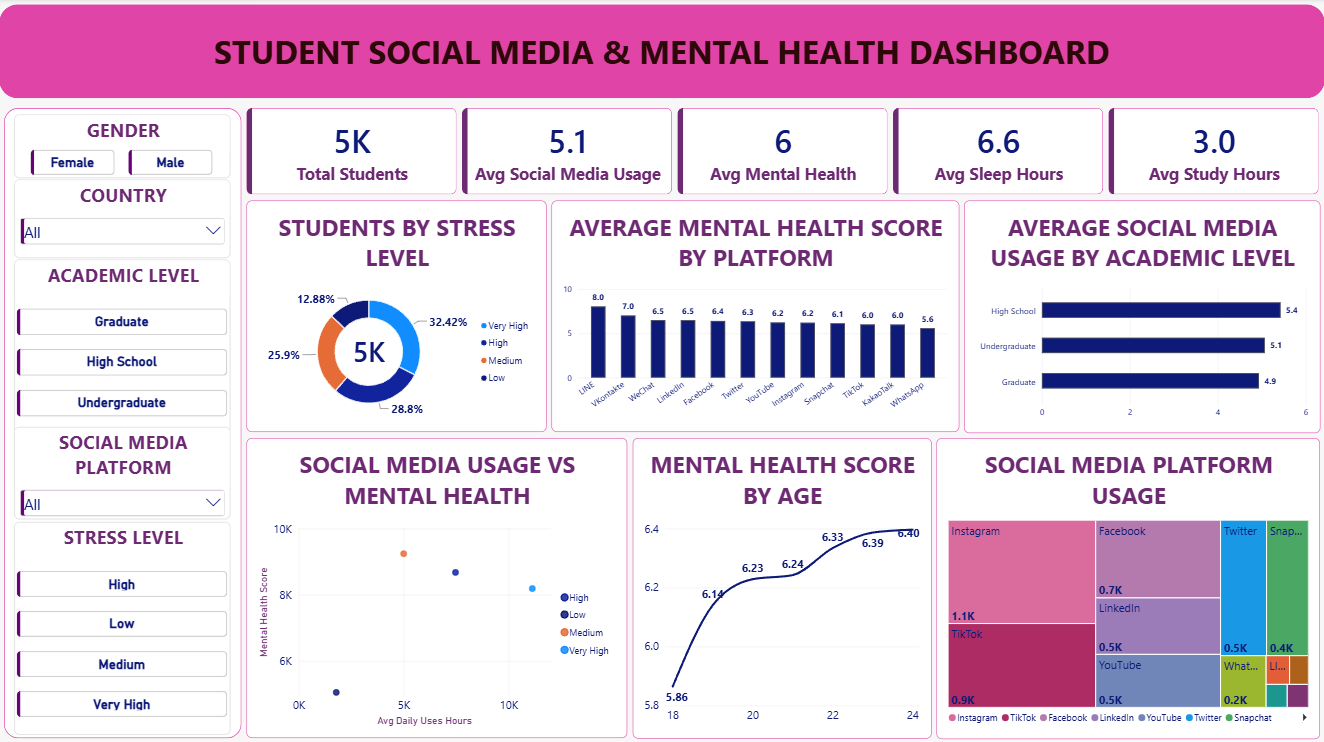

The dashboard page shown, as its layout file describes it:
{"tool":"powerbi","page":{"name":"Page 2","canvas":[1920,1080],"ordinal":1},"visuals":[{"type":"shape","box":[0,8.7,1919.6,136.3],"z":6000},{"type":"shape","box":[6.5,160,343.8,912.4],"z":7000},{"type":"advancedSlicerVisual","title":"GENDER","fields":{"Values":["StudentData.Gender"]},"box":[21.6,168.6,313.5,93],"z":8000},{"type":"advancedSlicerVisual","title":"ACADEMIC LEVEL","fields":{"Values":["StudentData.Academic_Level"]},"box":[21.6,378.4,313.5,253],"z":9000},{"type":"advancedSlicerVisual","title":"STRESS LEVEL","fields":{"Values":["StudentData.Stress_Level"]},"box":[21.6,758.9,313.5,309.2],"z":14000},{"type":"slicer","title":"SOCIAL MEDIA PLATFORM","fields":{"Values":["StudentData.Most_Used_Platform"]},"box":[21.6,620.5,313.5,134.1],"z":15000},{"type":"slicer","title":"COUNTRY","fields":{"Values":["StudentData.Country"]},"box":[21.6,261.6,313.5,114.6],"z":16000},{"type":"donutChart","title":"STUDENTS BY STRESS LEVEL","fields":{"Category":["StudentData.Stress_Level"],"Y":["StudentData.Total Students"]},"box":[358.9,294,434.6,335.1],"z":17000},{"type":"clusteredColumnChart","title":"AVERAGE MENTAL HEALTH SCORE BY PLATFORM","fields":{"Category":["StudentData.Most_Used_Platform"],"Y":["StudentData.Avg Mental Health"]},"box":[800,294.1,590.3,335.1],"z":18000},{"type":"scatterChart","title":"SOCIAL MEDIA USAGE VS MENTAL HEALTH","fields":{"Series":["StudentData.Stress_Level"],"X":["Sum(StudentData.Avg_Daily_Usage_Hours)"],"Y":["Sum(StudentData.Mental_Health_Score)"]},"box":[358.9,637.8,551.4,434.6],"z":19000},{"type":"clusteredBarChart","title":"AVERAGE SOCIAL MEDIA USAGE BY ACADEMIC LEVEL","fields":{"Category":["StudentData.Academic_Level"],"Y":["StudentData.Avg Social Media Usage"]},"box":[1397.1,293.2,515.8,336.6],"z":20000},{"type":"lineChart","title":"MENTAL HEALTH SCORE BY AGE","fields":{"Category":["StudentData.Age"],"Y":["StudentData.Avg Mental Health"]},"box":[916.8,637.8,432.4,435],"z":21000},{"type":"treemap","title":"SOCIAL MEDIA PLATFORM USAGE","fields":{"Group":["StudentData.Most_Used_Platform"],"Values":["StudentData.Total Students"]},"box":[1357.2,637,555.6,436.1],"z":22000},{"type":"cardVisual","fields":{"Data":["StudentData.Total Students","StudentData.Avg Social Media Usage","StudentData.Avg Mental Health","StudentData.Avg Sleep Hours","StudentData.Avg Study Hours"]},"box":[358.3,159.3,1554.5,125],"z":22001}]}

Visuals, with their boxes in screenshot pixels (x1, y1, x2, y2), scaled from the page's 1920x1080 canvas onto the 1324x742 screenshot:
shape: {"left": 0, "top": 6, "right": 1323, "bottom": 100}
shape: {"left": 4, "top": 110, "right": 242, "bottom": 737}
"GENDER" advancedSlicerVisual: {"left": 15, "top": 116, "right": 231, "bottom": 180}
"ACADEMIC LEVEL" advancedSlicerVisual: {"left": 15, "top": 260, "right": 231, "bottom": 434}
"STRESS LEVEL" advancedSlicerVisual: {"left": 15, "top": 521, "right": 231, "bottom": 734}
"SOCIAL MEDIA PLATFORM" slicer: {"left": 15, "top": 426, "right": 231, "bottom": 518}
"COUNTRY" slicer: {"left": 15, "top": 180, "right": 231, "bottom": 258}
"STUDENTS BY STRESS LEVEL" donutChart: {"left": 247, "top": 202, "right": 547, "bottom": 432}
"AVERAGE MENTAL HEALTH SCORE BY PLATFORM" clusteredColumnChart: {"left": 552, "top": 202, "right": 959, "bottom": 432}
"SOCIAL MEDIA USAGE VS MENTAL HEALTH" scatterChart: {"left": 247, "top": 438, "right": 628, "bottom": 737}
"AVERAGE SOCIAL MEDIA USAGE BY ACADEMIC LEVEL" clusteredBarChart: {"left": 963, "top": 201, "right": 1319, "bottom": 433}
"MENTAL HEALTH SCORE BY AGE" lineChart: {"left": 632, "top": 438, "right": 930, "bottom": 737}
"SOCIAL MEDIA PLATFORM USAGE" treemap: {"left": 936, "top": 438, "right": 1319, "bottom": 737}
cardVisual - StudentData.Total Students x StudentData.Avg Social Media Usage: {"left": 247, "top": 109, "right": 1319, "bottom": 195}
